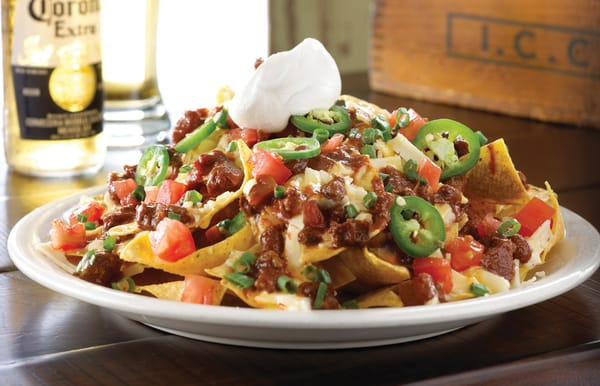curry: (0, 8, 573, 378)
pizza: (180, 276, 222, 306)
